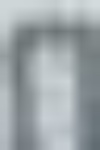P_RUS: (0, 0, 99, 149)
